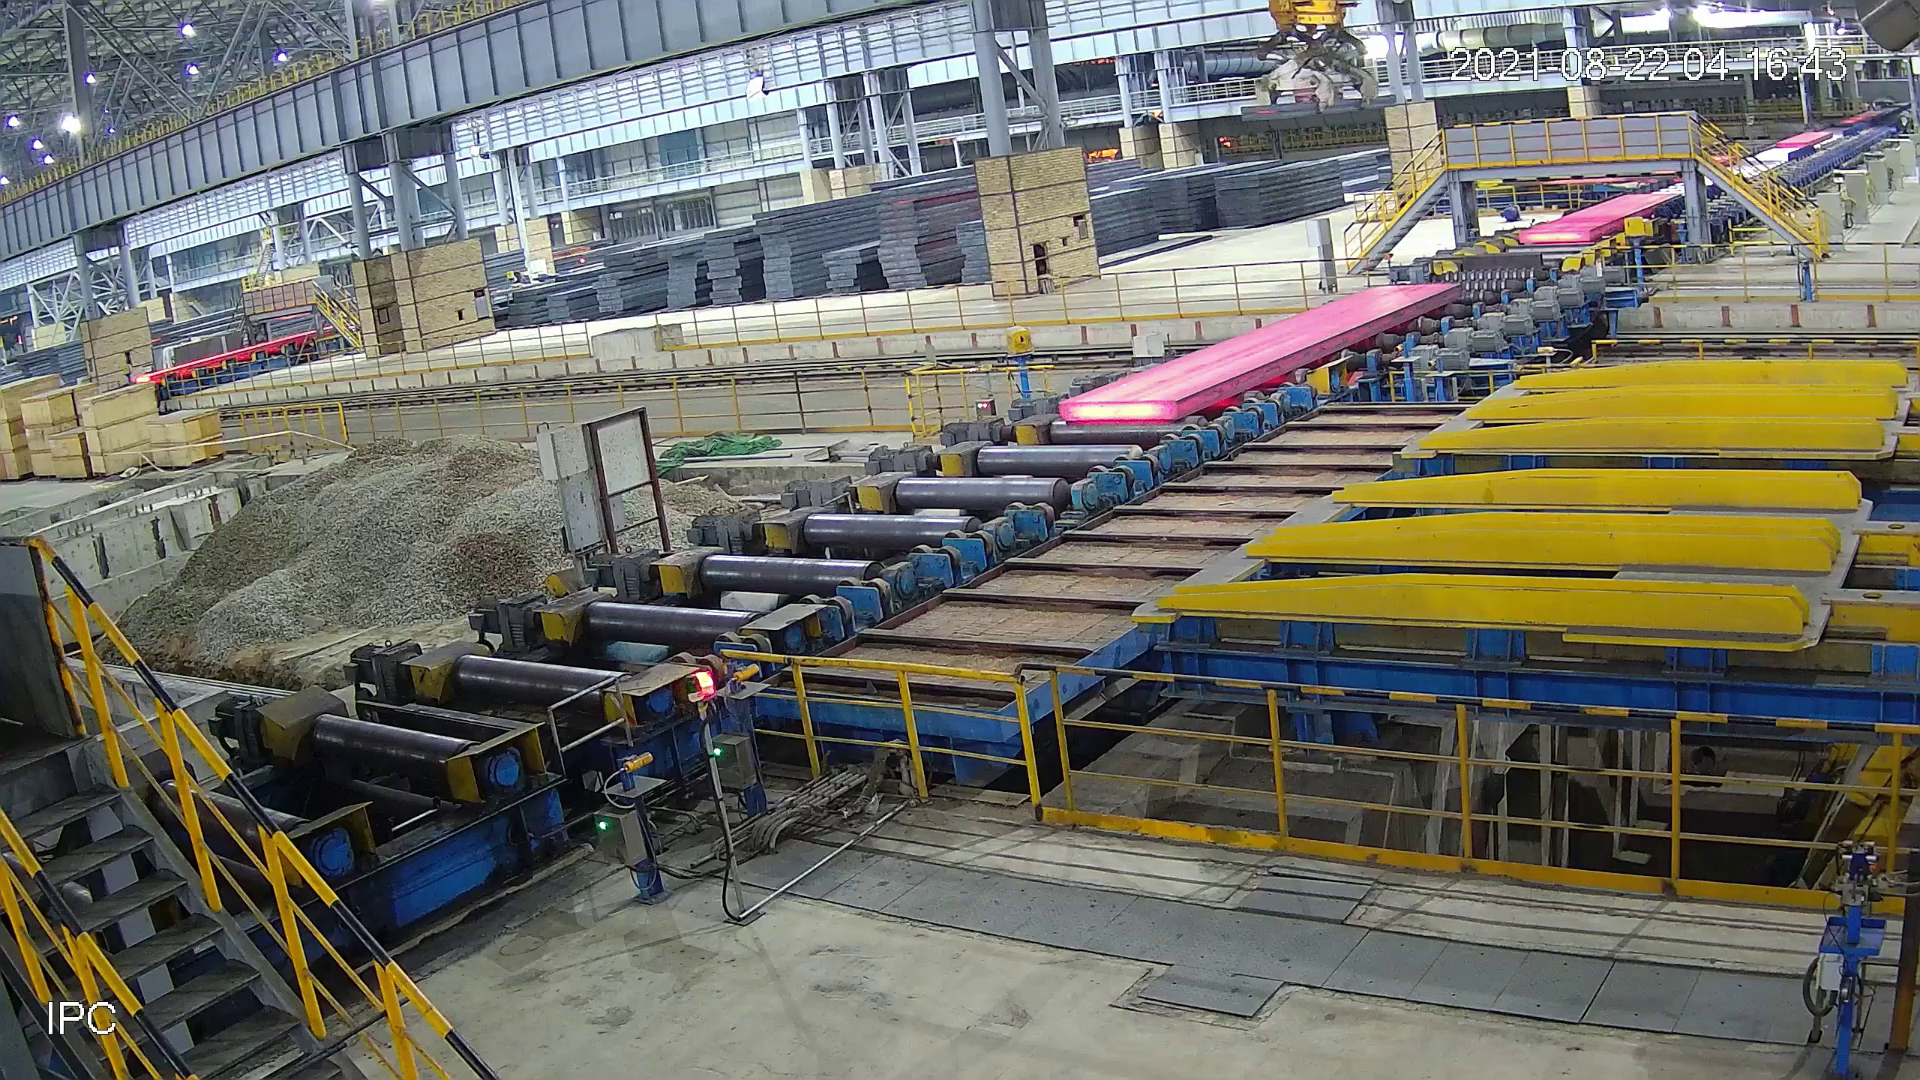slab: (1054, 278, 1464, 425), (1513, 194, 1684, 247)
